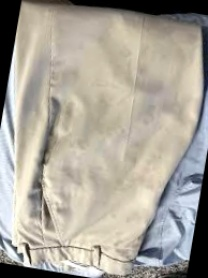oil: (53, 98, 99, 144)
